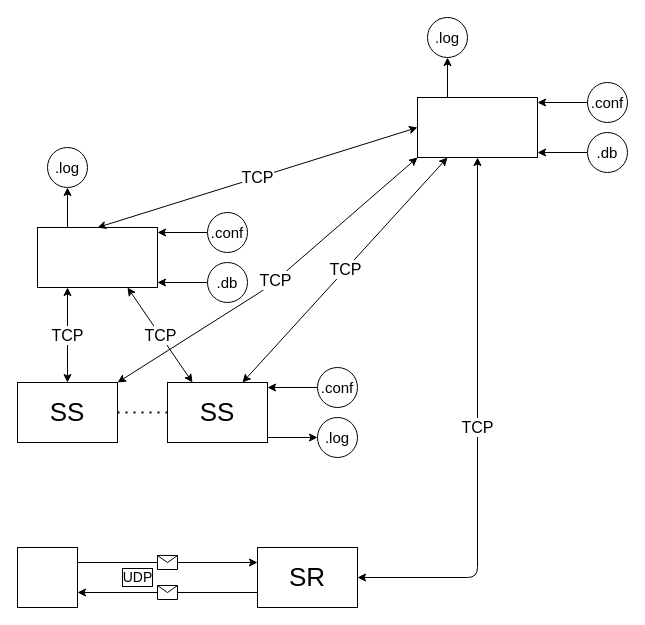
Image size: 645x625. Some labels were removed from this diagram. Here are the shapes that lost their labels. From the top down, the centre of each, then its label:
At (477,127): "ST".
At (97,257): "SP".
At (47,577): "CL".
